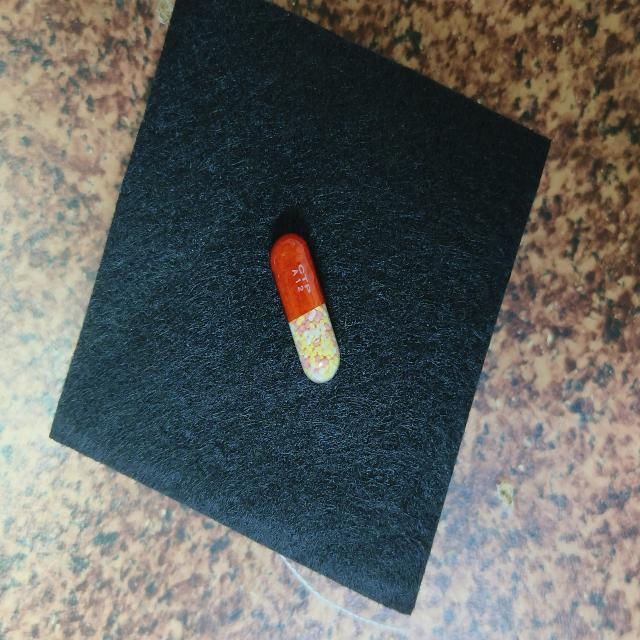Intact Capsule: (270, 233, 340, 382)
